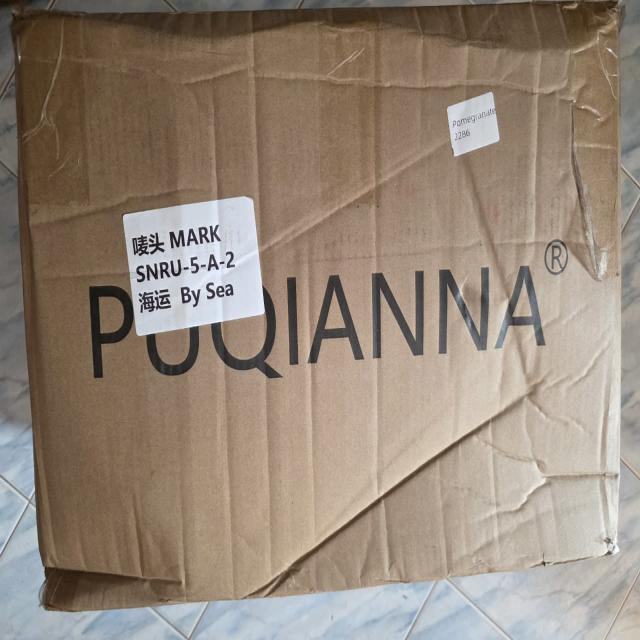carton_box: (5, 0, 623, 618)
export_mark_label: (123, 196, 271, 332)
